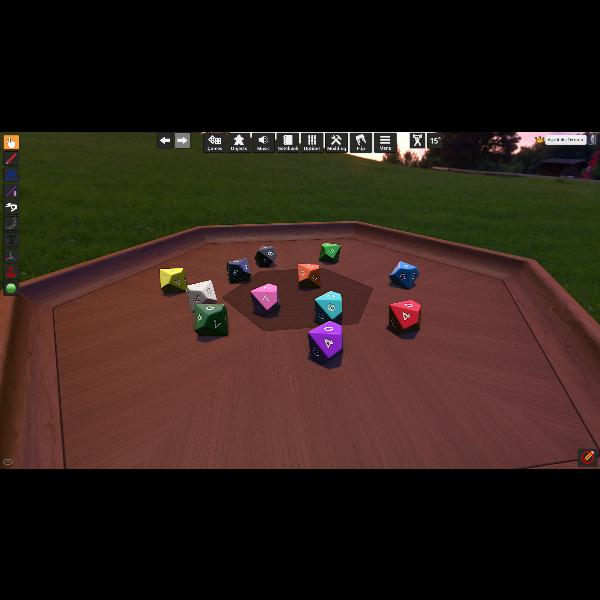d10: (308, 321, 341, 363), (389, 298, 422, 334), (194, 304, 230, 336), (186, 280, 218, 312), (250, 283, 280, 315), (314, 291, 341, 323), (389, 260, 419, 288), (160, 268, 188, 292), (226, 258, 251, 282), (255, 245, 277, 268), (301, 264, 321, 288), (318, 242, 338, 264)
